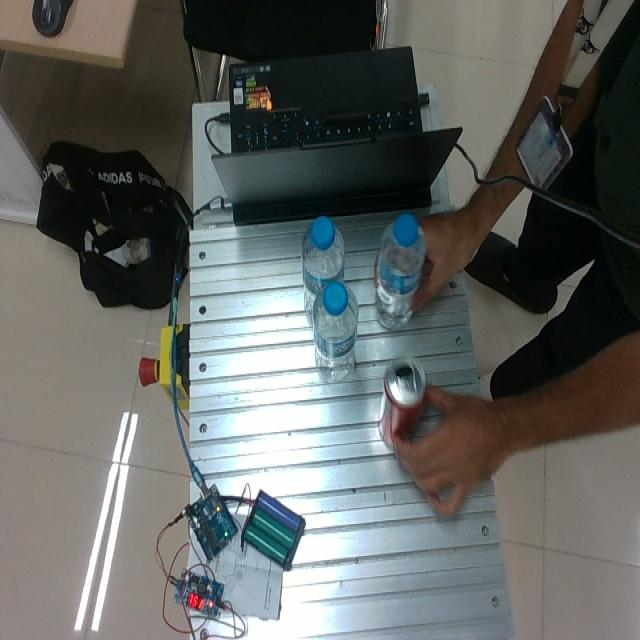coca: (377, 357, 430, 452)
lavie: (373, 215, 427, 328), (300, 215, 345, 328), (310, 278, 358, 382)
